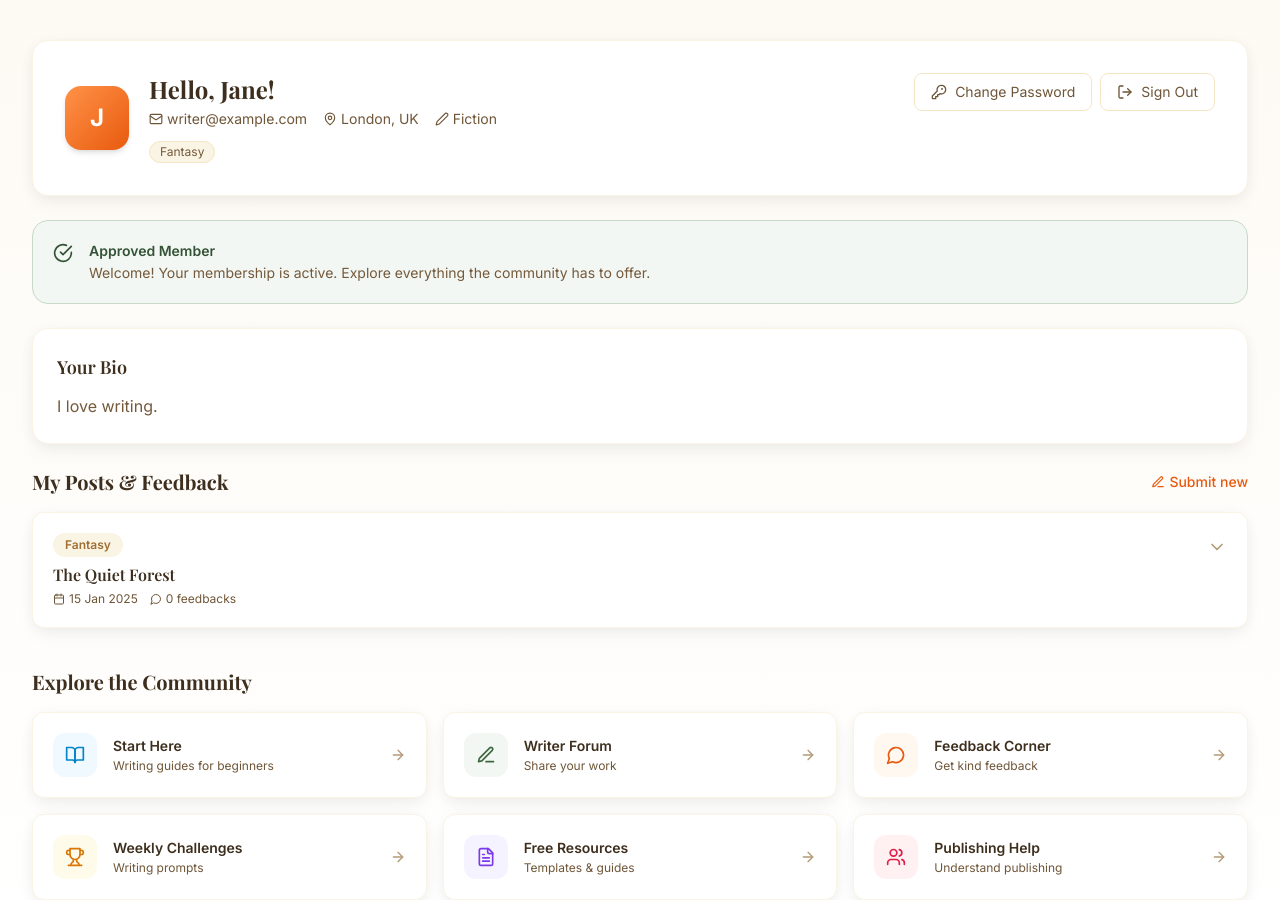
Test: MemberArea — My Posts & Feedback › shows "No feedback yet" for an expanded post with zero replies
Click the heading "The Quiet Forest" at (114, 574), box [53,564,175,585]
(page scrolled)
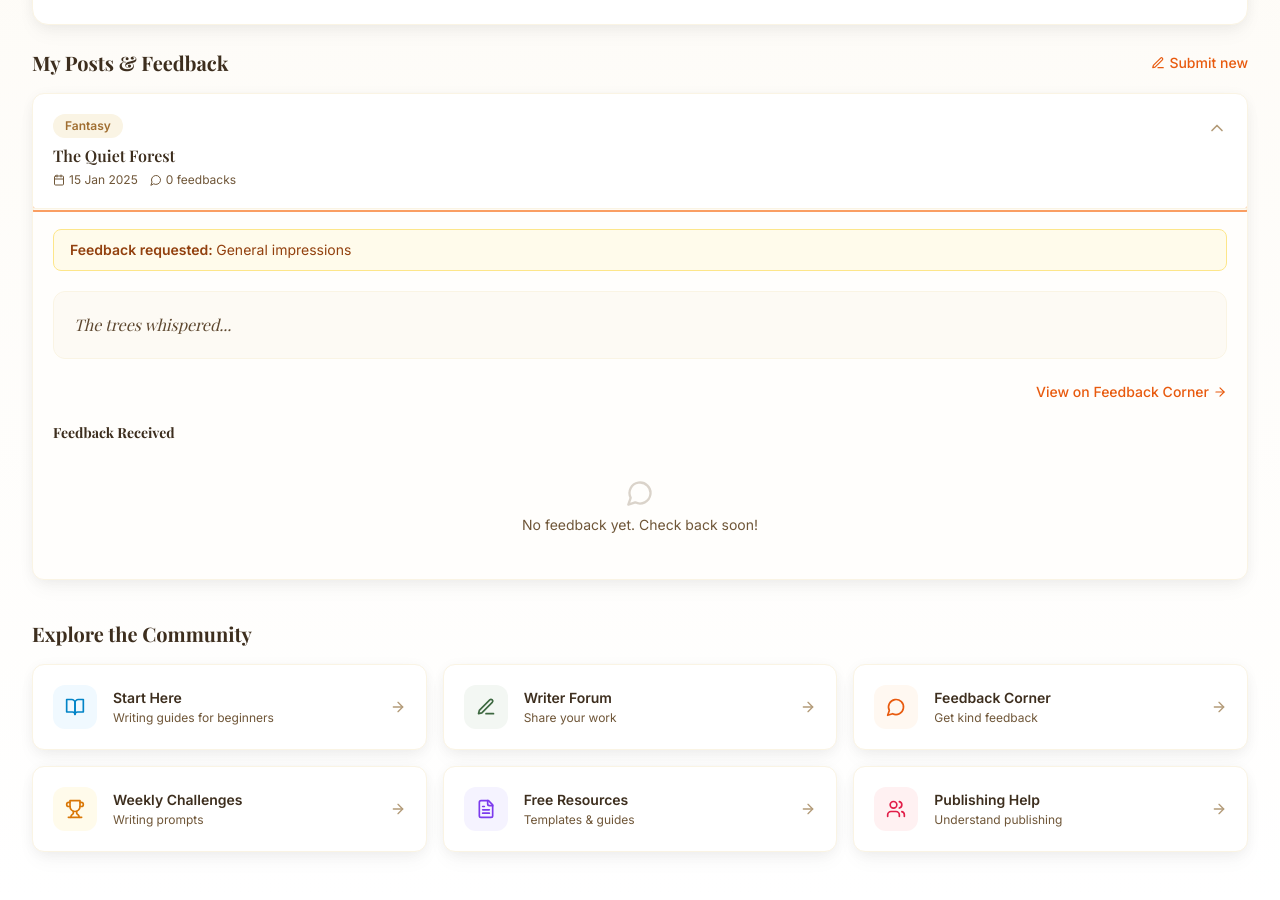
Expected: the text "No feedback yet. Check back soon!" is shown, [522,516,758,533]
